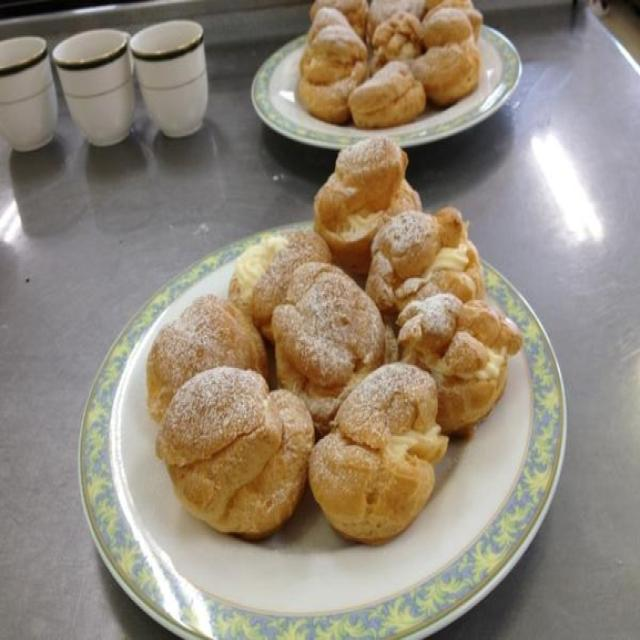炸货点心: (106, 150, 554, 602)
蛋糕甜品: (106, 150, 554, 602)
